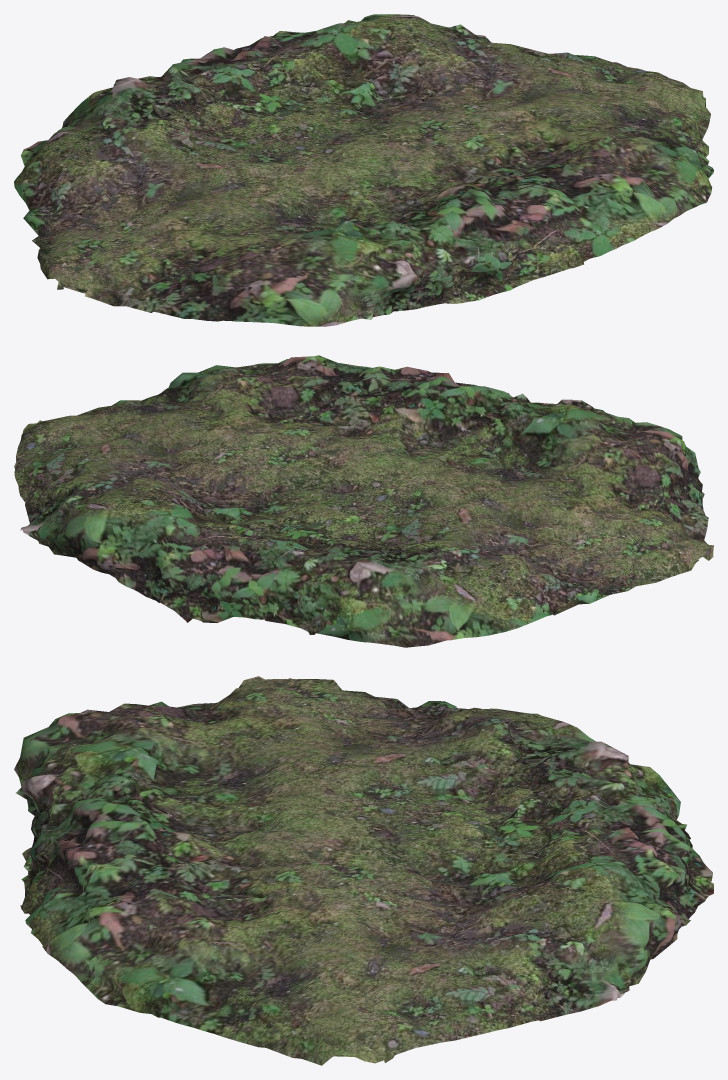
Rendered from moss_ground_002.glb.
3 renders of one model, top to bottom at view 1: azimuth 30°, elevation 25°; view 2: azimuth 150°, elevation 25°; view 3: azimuth 270°, elevation 25°, orthographic. The views are drawn at different scales.
Parts seen in each view (by area): view 1: moss ground.002; view 2: moss ground.002; view 3: moss ground.002.
Part boxes in pixels (left/top/right/bottom): moss ground.002: left=14, top=14, right=713, bottom=326; moss ground.002: left=14, top=355, right=713, bottom=647; moss ground.002: left=14, top=676, right=713, bottom=1065.
Size of the model in its own units: 5.13 by 0.4593 by 3.98.
Materials: 1 (1 with a texture image).
